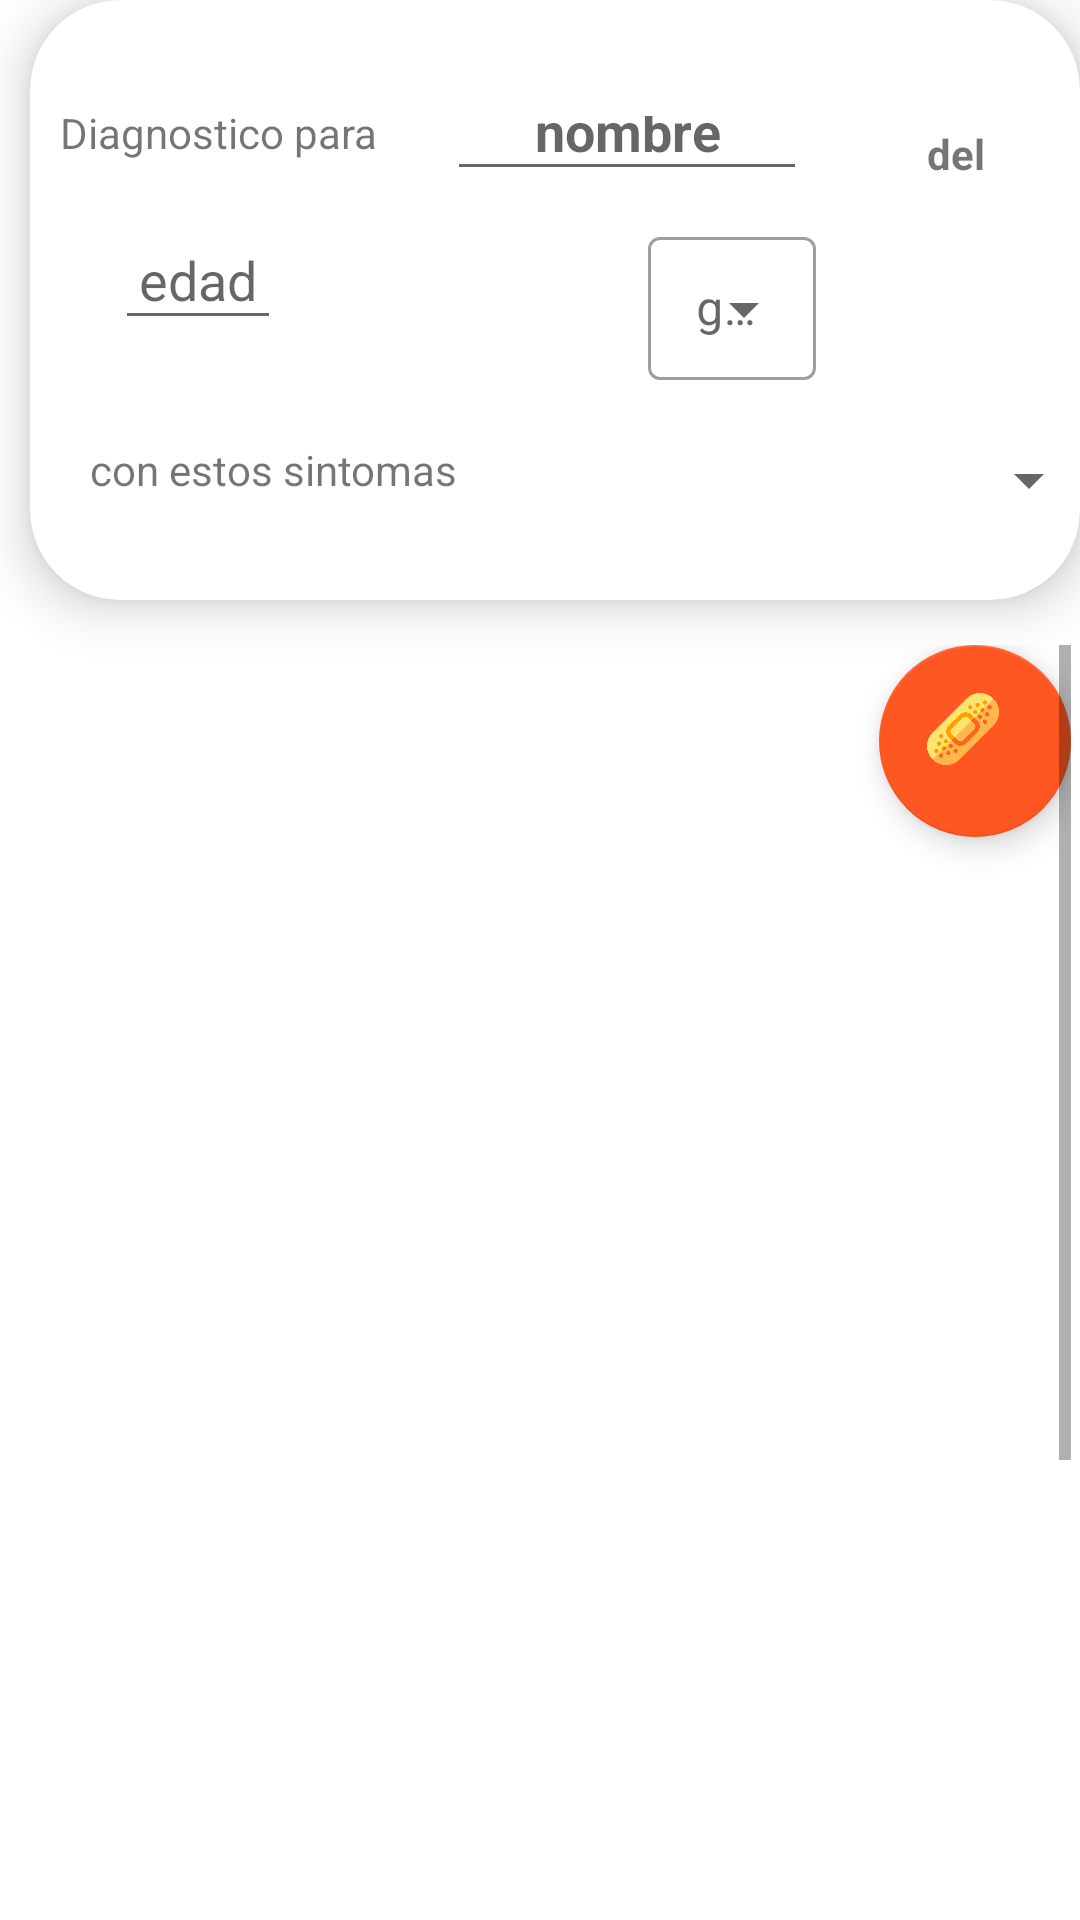

Where to tap for icons on this 1080 × 1920 app screen, as (x,y):
tirita: (975,741)
